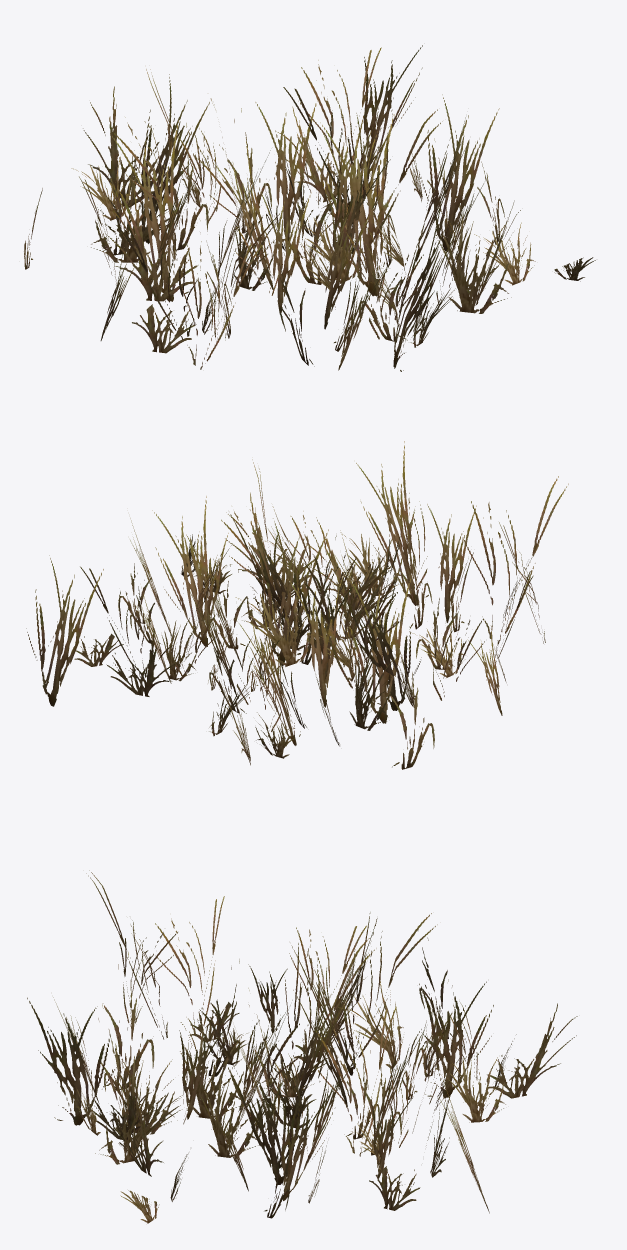
The picture shows the model from 3 angles, top to bottom: view 1: azimuth 30°, elevation 25°; view 2: azimuth 150°, elevation 25°; view 3: azimuth 270°, elevation 25°; orthographic projection. The views are drawn at different scales.
Visible parts, largest first — view 1: grasspatch3; view 2: grasspatch3; view 3: grasspatch3.
Part boxes in pixels (box(x1,y1,x2,y2)): grasspatch3: box(24, 45, 595, 371); grasspatch3: box(26, 441, 568, 769); grasspatch3: box(27, 870, 577, 1223).
Size of the model in its own units: 1.34 by 0.5837 by 1.51.
1 material, 1 textured.
